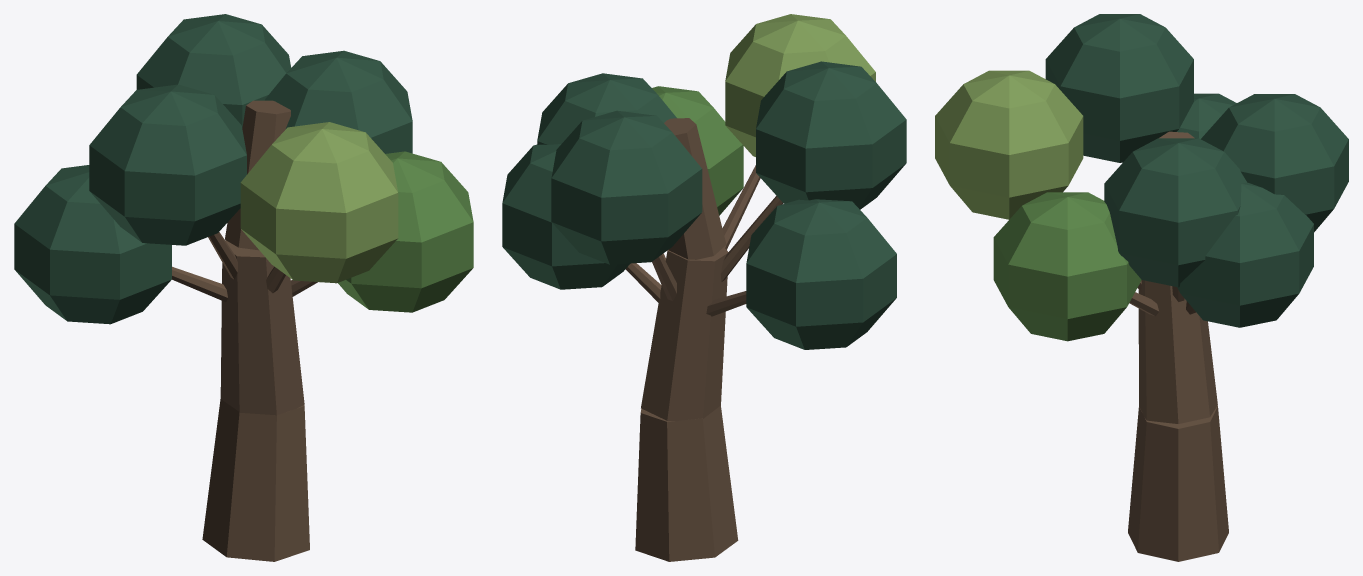
Rendered from vegetation-baobab.lod0.glb.
3 renders of one model, left to right at view 1: azimuth 30°, elevation 25°; view 2: azimuth 150°, elevation 25°; view 3: azimuth 270°, elevation 25°, orthographic. The views are drawn at different scales.
Visible parts, largest first — view 1: vegetation-baobab__body; view 2: vegetation-baobab__body; view 3: vegetation-baobab__body.
Part boxes in pixels (x1=…): vegetation-baobab__body: x1=14, y1=14, x2=473, y2=561; vegetation-baobab__body: x1=502, y1=14, x2=906, y2=561; vegetation-baobab__body: x1=935, y1=14, x2=1348, y2=561.
Bounding box in the file's own units: 4.94 × 6.45 × 5.18.
